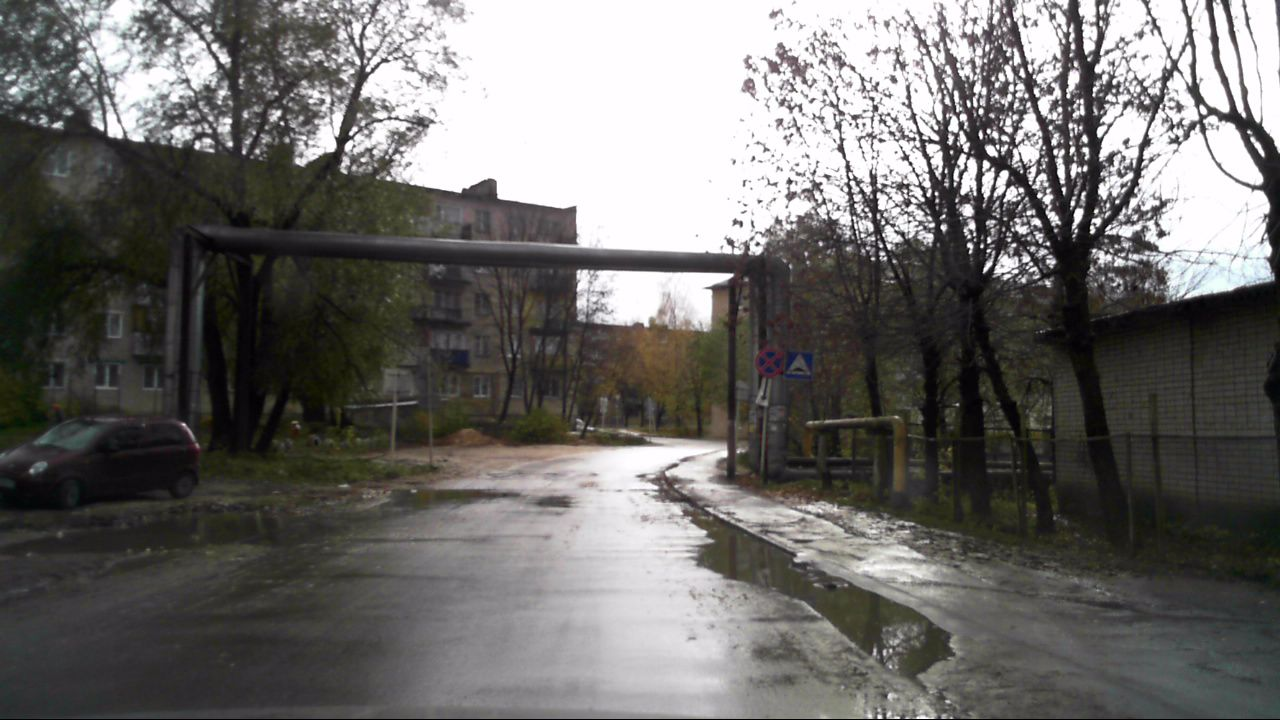No Parking: (754, 347, 785, 378)
